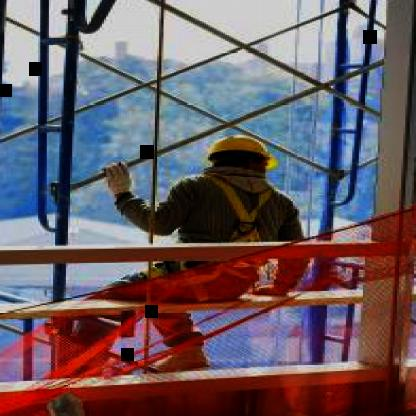helmet: (195, 126, 278, 194)
